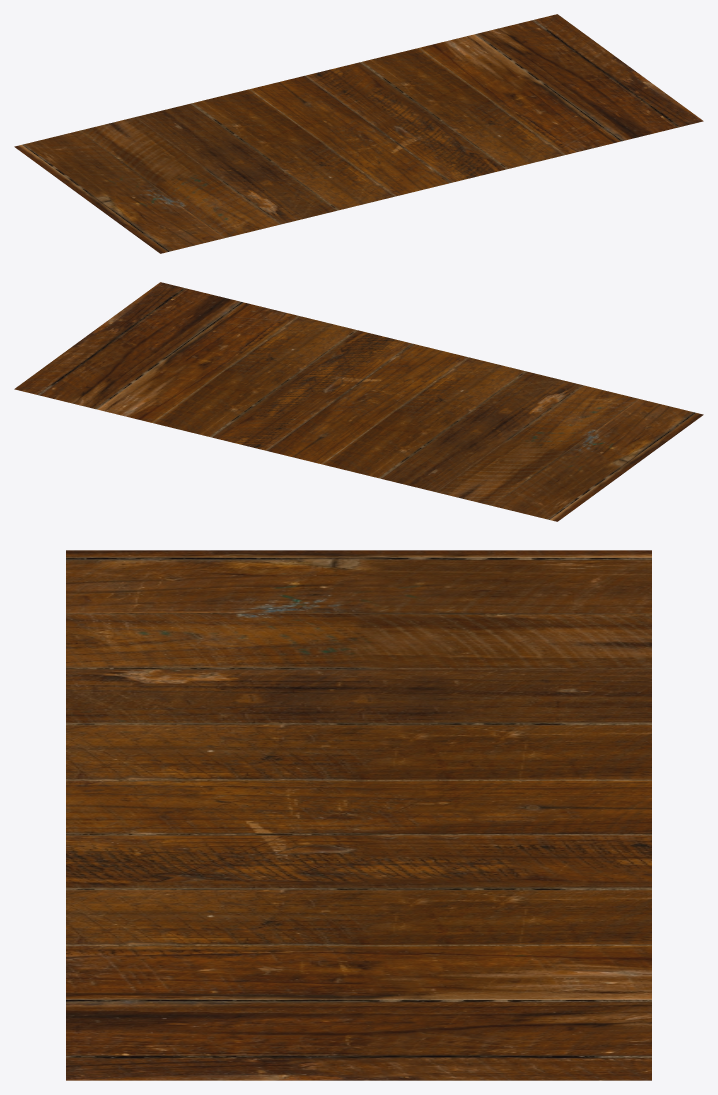
File: woodFloor.glb
The picture shows the model from 3 angles, top to bottom: view 1: azimuth 30°, elevation 25°; view 2: azimuth 150°, elevation 25°; view 3: azimuth 270°, elevation 25°; orthographic projection. The views are drawn at different scales.
Parts seen in each view (by area): view 1: floor; view 2: floor; view 3: floor.
Boxes of the visible parts, x1=… form: floor: x1=14, y1=14, x2=703, y2=253; floor: x1=14, y1=282, x2=703, y2=521; floor: x1=66, y1=550, x2=651, y2=1080.
Size of the model in its own units: 5.93 by 0 by 2.77.
Materials: 1 (1 with a texture image).
